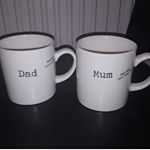cups: (72, 31, 150, 114), (1, 30, 78, 109)
